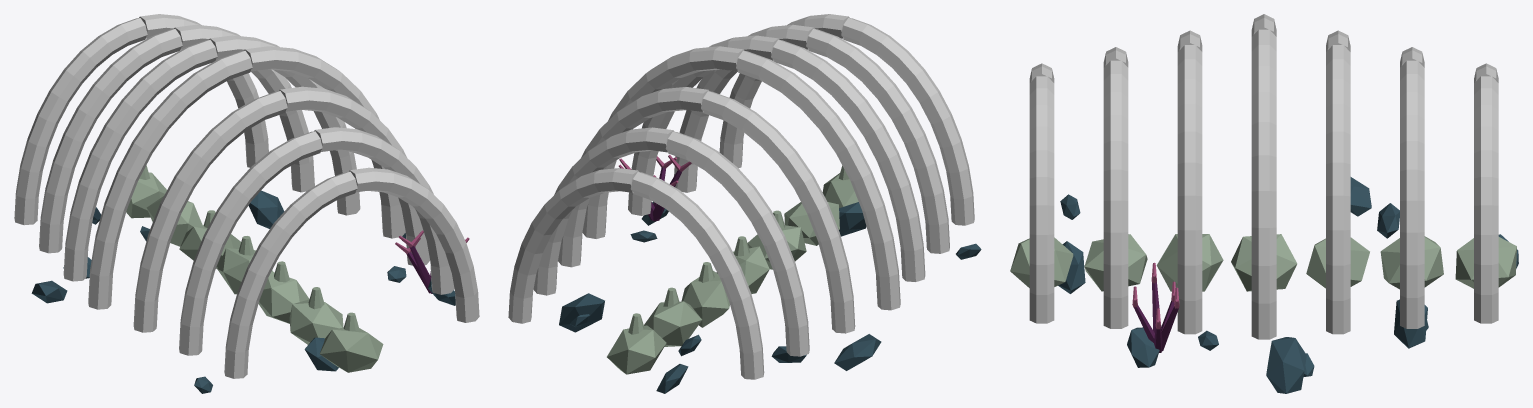
The model's file is 05_giant_ribcage.obj.
3 views of the same model, side by side, from view 1: azimuth 30°, elevation 25°; view 2: azimuth 150°, elevation 25°; view 3: azimuth 270°, elevation 25° (orthographic). The views are drawn at different scales.
Parts seen in each view (by area): view 1: GiantRib.006, GiantRib.004, GiantRib.008, GiantRib.002, GiantRib.010, GiantRib, GiantRib.012, GiantRib.001, GiantRib.007, GiantRib.003, GiantRib.005, GiantRib.011 (+12 smaller); view 2: GiantRib.006, GiantRib.008, GiantRib.004, GiantRib.010, GiantRib.002, GiantRib, GiantRib.012, GiantRib.013, GiantRib.009, GiantRib.007, GiantRib.011, GiantRib.003 (+13 smaller); view 3: GiantRib.007, GiantRib.005, GiantRib.009, GiantRib.003, GiantRib.011, GiantRib.001, GiantRib.013, BrokenStone.054, Vertebra.003, Vertebra.002, Vertebra.006, Vertebra.005 (+8 smaller).
Part boxes in pixels (bbox=[...]): GiantRib.006: bbox=[88, 50, 252, 309]; GiantRib.004: bbox=[133, 91, 287, 332]; GiantRib.008: bbox=[63, 39, 217, 281]; GiantRib.002: bbox=[179, 131, 322, 355]; GiantRib.010: bbox=[39, 28, 182, 253]; GiantRib: bbox=[224, 171, 357, 378]; GiantRib.012: bbox=[14, 18, 147, 225]; GiantRib.001: bbox=[349, 167, 479, 322]; GiantRib.007: bbox=[244, 46, 405, 238]; GiantRib.003: bbox=[314, 127, 454, 294]; GiantRib.005: bbox=[279, 86, 429, 265]; GiantRib.011: bbox=[174, 24, 314, 192]; GiantRib.006: bbox=[736, 50, 900, 310]; GiantRib.008: bbox=[701, 91, 855, 333]; GiantRib.004: bbox=[771, 39, 925, 281]; GiantRib.010: bbox=[665, 131, 809, 356]; GiantRib.002: bbox=[806, 29, 949, 253]; GiantRib: bbox=[841, 18, 974, 225]; GiantRib.012: bbox=[630, 172, 764, 379]; GiantRib.013: bbox=[508, 168, 638, 323]; GiantRib.009: bbox=[558, 87, 709, 267]; GiantRib.007: bbox=[582, 46, 744, 238]; GiantRib.011: bbox=[533, 127, 674, 295]; GiantRib.003: bbox=[674, 24, 814, 192]; GiantRib.007: bbox=[1251, 29, 1276, 339]; GiantRib.005: bbox=[1177, 45, 1202, 334]; GiantRib.009: bbox=[1326, 45, 1350, 334]; GiantRib.003: bbox=[1103, 60, 1128, 328]; GiantRib.011: bbox=[1400, 60, 1424, 328]; GiantRib.001: bbox=[1029, 76, 1054, 323]; GiantRib.013: bbox=[1474, 76, 1498, 323]; BrokenStone.054: bbox=[1266, 337, 1306, 393]; Vertebra.003: bbox=[1231, 234, 1297, 291]; Vertebra.002: bbox=[1156, 234, 1223, 291]; Vertebra.006: bbox=[1455, 237, 1516, 288]; Vertebra.005: bbox=[1380, 236, 1443, 289].
Bounding box in the file's own units: 8.53 × 5.64 × 9.62.
